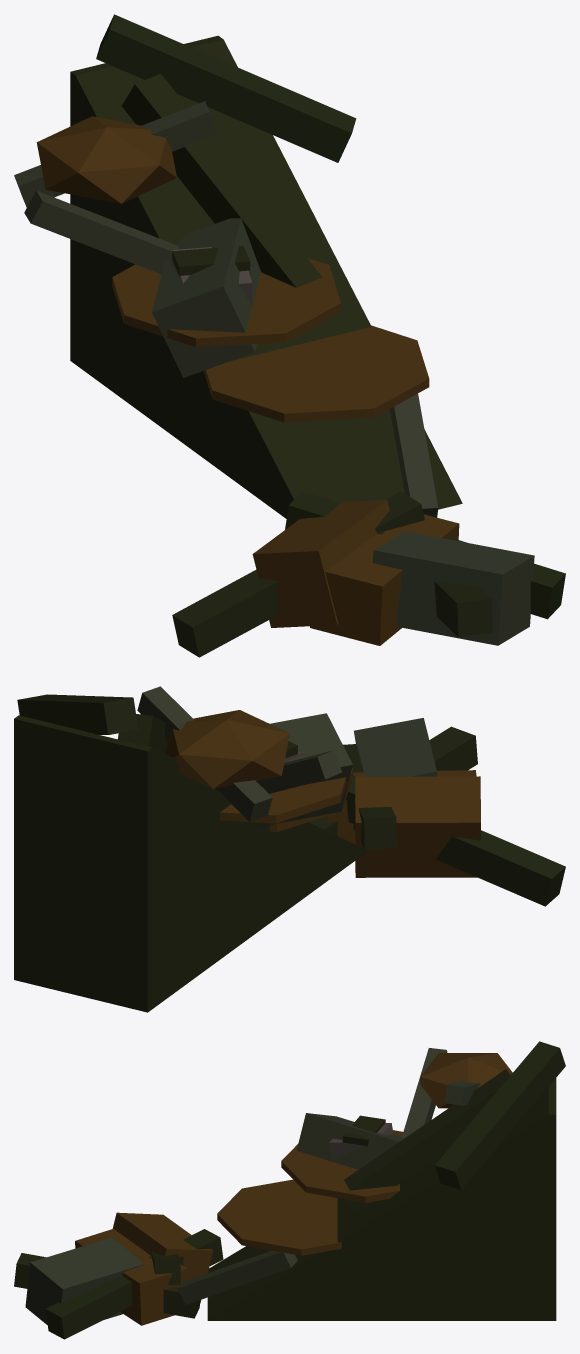
Rendered from SM_PilaZombi_Altura1_s1_LOD0.fbx.
The picture shows the model from 3 angles, top to bottom: view 1: azimuth 30°, elevation 25°; view 2: azimuth 150°, elevation 25°; view 3: azimuth 270°, elevation 25°; orthographic projection. The views are drawn at different scales.
Parts seen in each view (by area): view 1: SM_pila_zombis_v5_LOD0; view 2: SM_pila_zombis_v5_LOD0; view 3: SM_pila_zombis_v5_LOD0.
Boxes of the visible parts, left/top/right/bottom form: SM_pila_zombis_v5_LOD0: left=14, top=14, right=565, bottom=657; SM_pila_zombis_v5_LOD0: left=14, top=686, right=565, bottom=1012; SM_pila_zombis_v5_LOD0: left=14, top=1041, right=565, bottom=1339.
Bounding box in the file's own units: 1.36 × 1.26 × 2.35.
